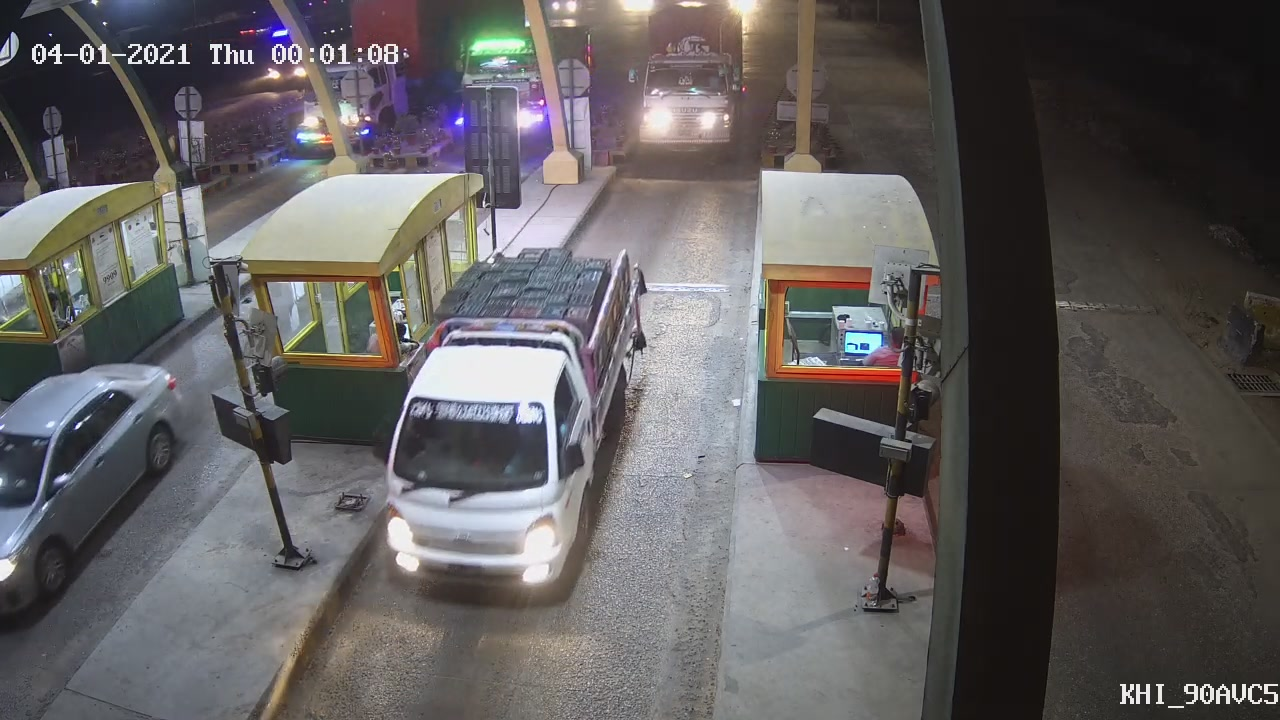F1: (355, 239, 647, 609)
F5: (626, 2, 752, 168)
